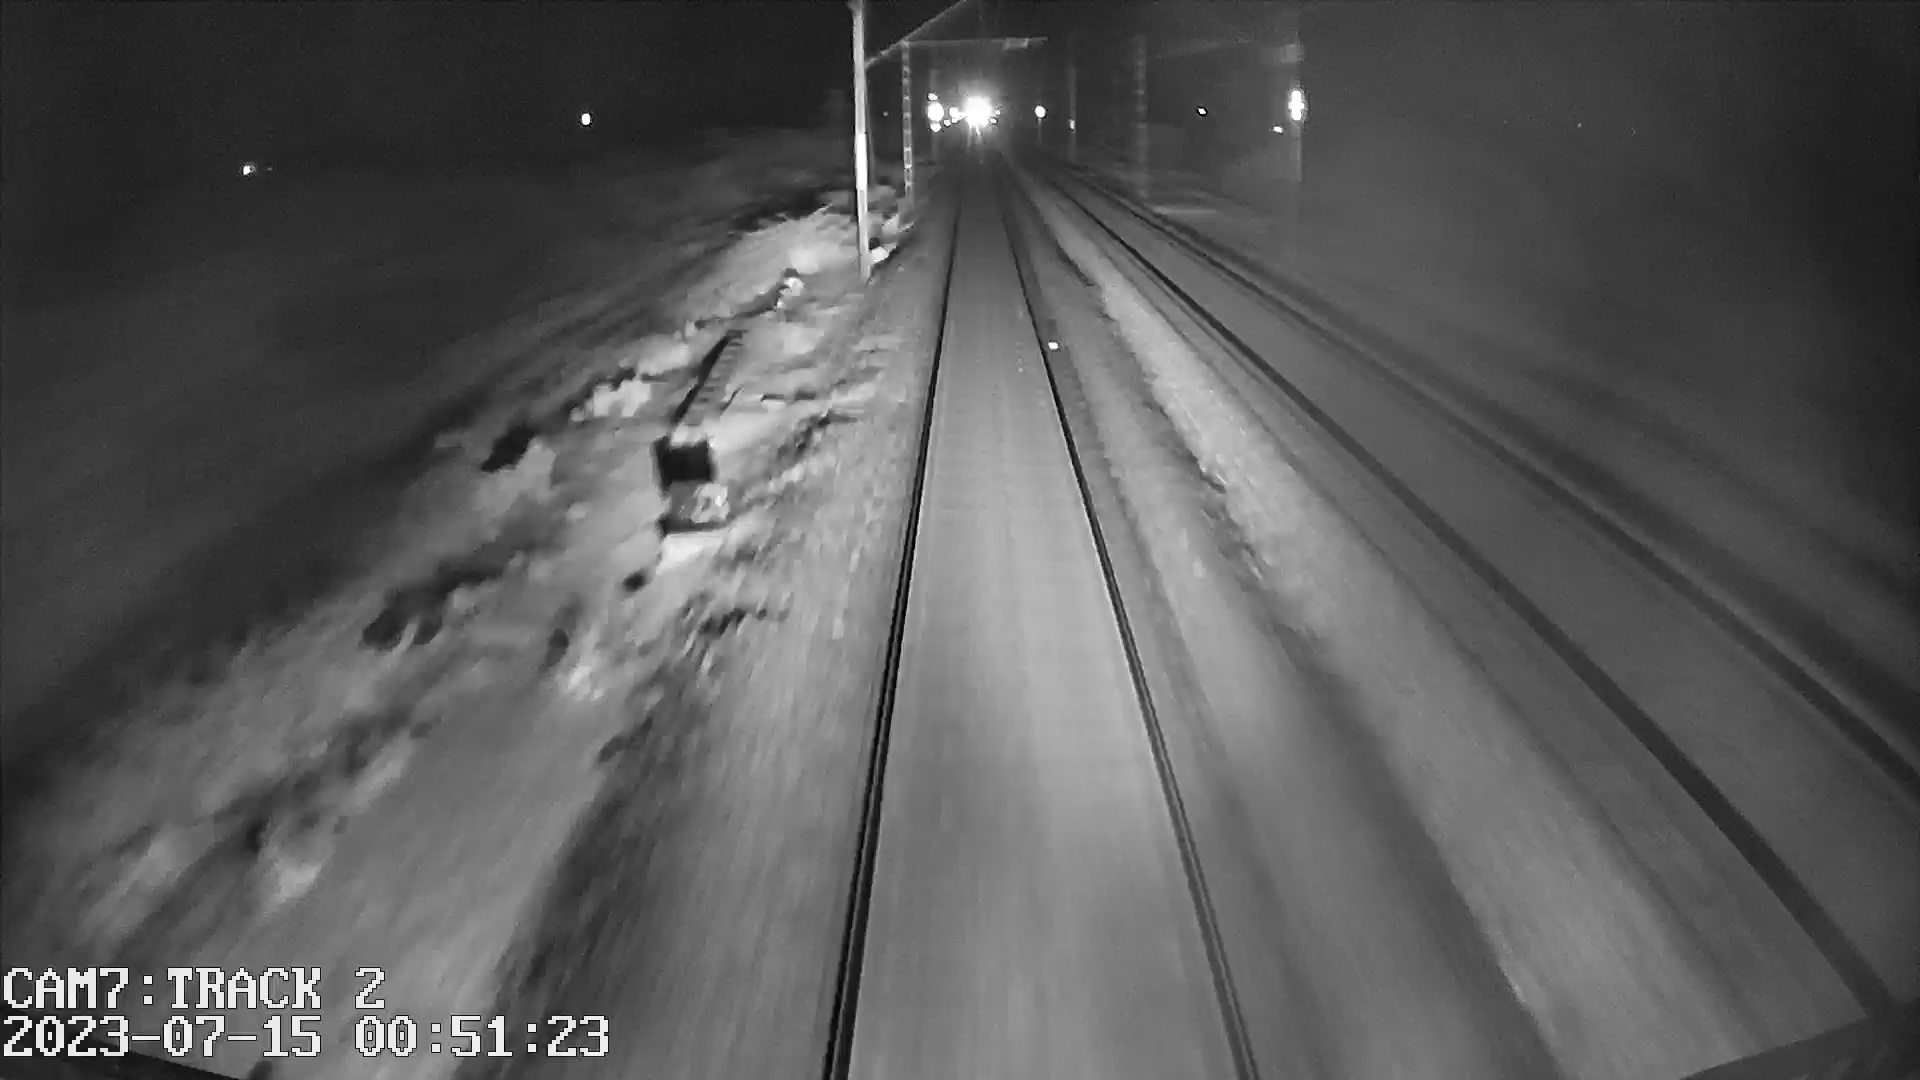track1: (840, 187, 1242, 1051)
track2: (1067, 193, 1912, 920)
